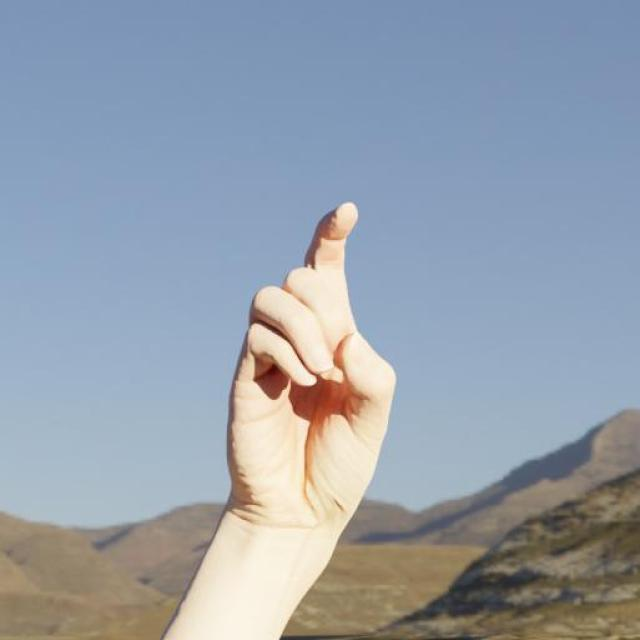X: (207, 198, 443, 567)
